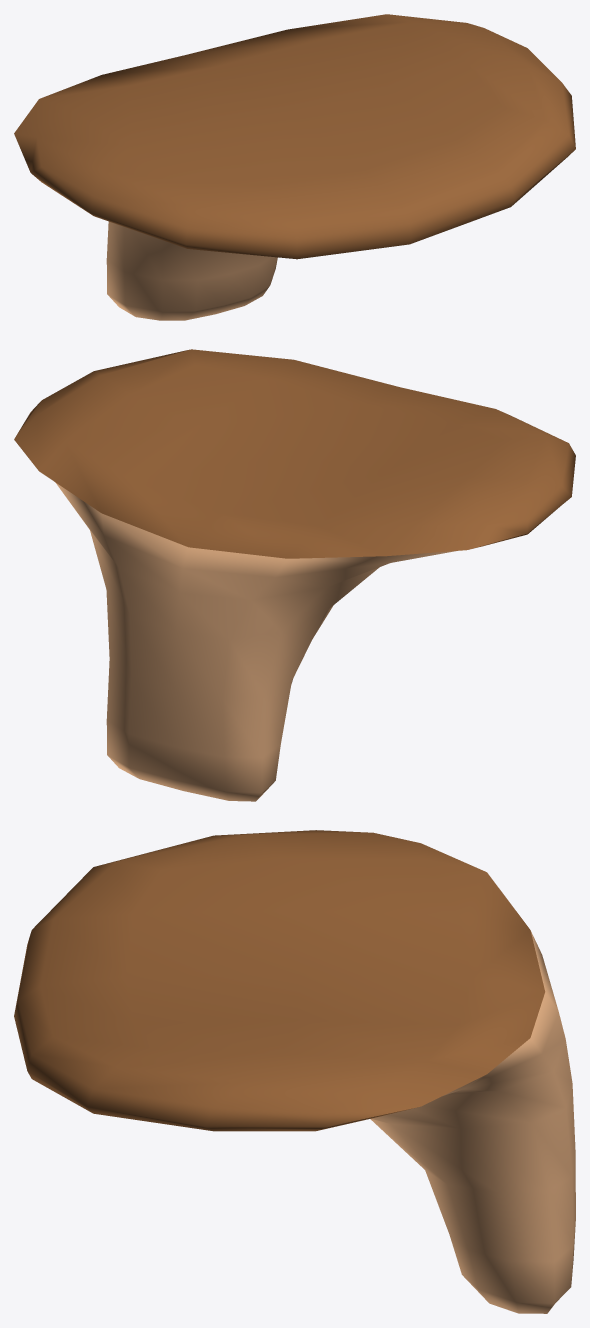
File: mushroom_shelf.fbx
3 views of the same model, one above another, from view 1: azimuth 30°, elevation 25°; view 2: azimuth 150°, elevation 25°; view 3: azimuth 270°, elevation 25° (orthographic). The views are drawn at different scales.
Parts seen in each view (by area): view 1: mushroom_panellus_stipticus; view 2: mushroom_panellus_stipticus; view 3: mushroom_panellus_stipticus.
Boxes of the visible parts, x1,y1,x2,y2 form: mushroom_panellus_stipticus: (14, 14, 575, 320); mushroom_panellus_stipticus: (14, 349, 575, 801); mushroom_panellus_stipticus: (14, 830, 575, 1313).
Size of the model in its own units: 42.5 by 22.49 by 34.97.
